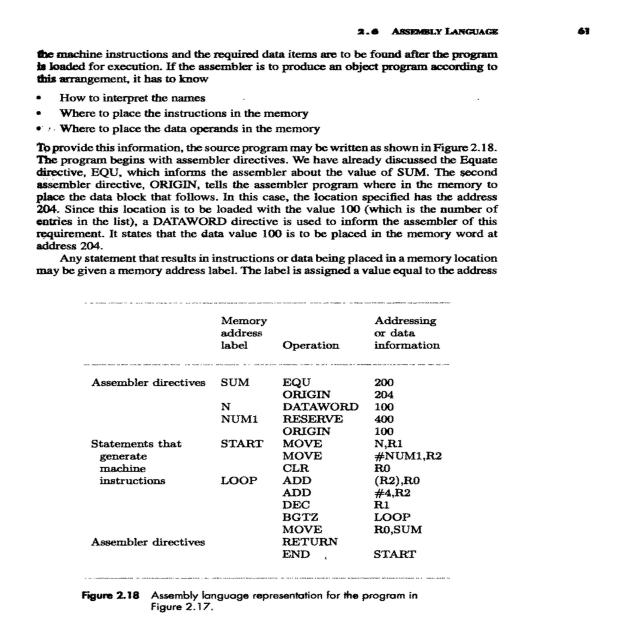diagram: (23, 289, 569, 635)
